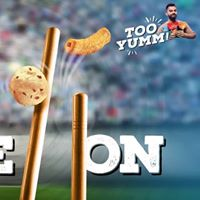tooyumm: (117, 16, 167, 52)
